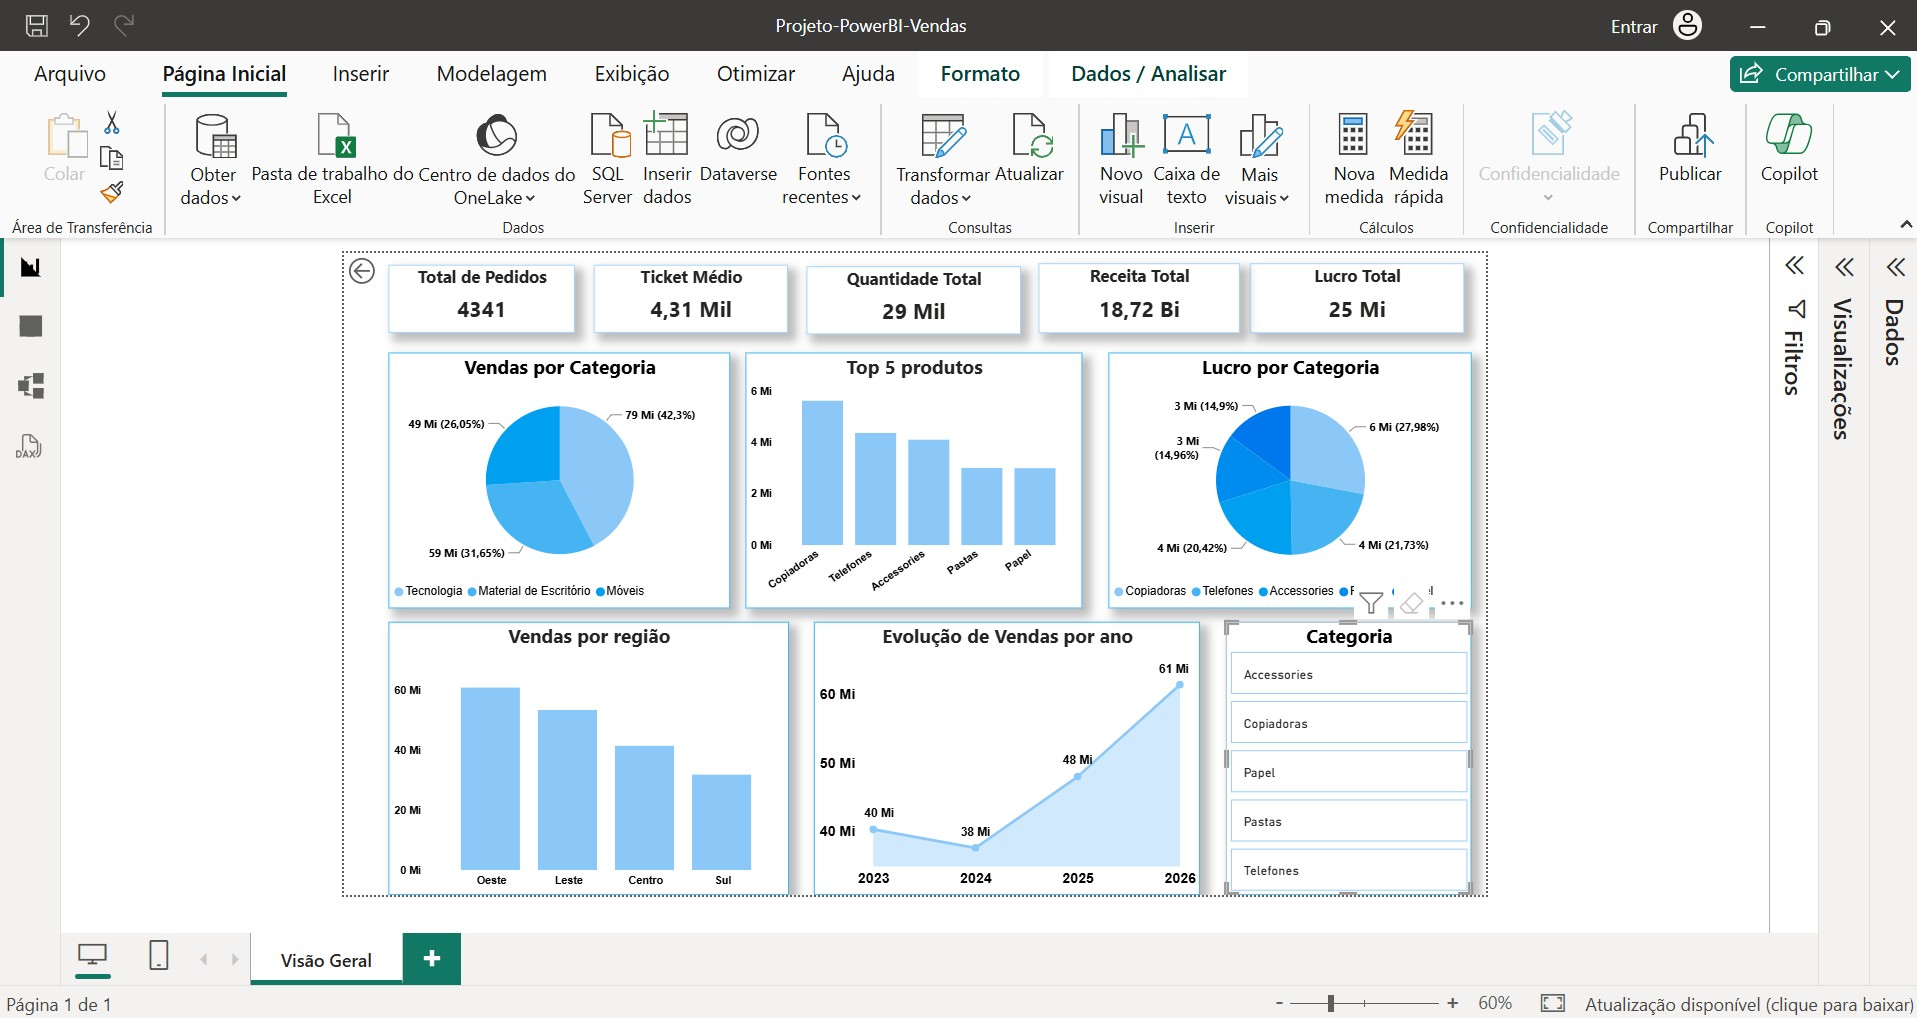

Layout of this report page (visuals, bound fields, positions):
{"tool":"powerbi","page":{"name":"Visão Geral","canvas":[1280,720],"ordinal":0},"visuals":[{"type":"card","title":"Lucro Total","fields":{"Values":["Sum(VISÃO GERAL.lucro_total)"]},"box":[1014.7,11.2,239.7,78.1],"z":0},{"type":"card","title":"Quantidade Total","fields":{"Values":["Sum(VISÃO GERAL.quantidade_total)"]},"box":[518.5,14.9,239.7,76.2],"z":1000},{"type":"card","title":"Ticket Médio","fields":{"Values":["Sum(SQLite 13.Ticket_Medio_Correto)"]},"box":[280.6,13,217.4,76.2],"z":2000},{"type":"card","title":"Receita Total","fields":{"Values":["Sum(SQLite 13.Receita_Total)"]},"box":[778.7,11.2,224.9,78.1],"z":3000},{"type":"card","title":"Total de Pedidos","fields":{"Values":["Sum(SQLite 13.Total_Pedidos)"]},"box":[50.2,13,208.1,76.2],"z":4000},{"type":"clusteredColumnChart","title":"Vendas por região","fields":{"Category":["VENDAS POR REGIÃO.region"],"Y":["Sum(VENDAS POR REGIÃO.receita)"]},"box":[50.2,413.8,448.2,305.6],"z":5000},{"type":"lineChart","title":"Evolução de Vendas por ano","fields":{"Category":["EVOLUÇÃO ANOS.ano"],"Y":["Sum(EVOLUÇÃO ANOS.receita)"]},"box":[526.6,413.8,432.6,305.6],"z":6000},{"type":"pieChart","title":"Vendas por Categoria","fields":{"Category":["VENDAS POR CATEGORIA.category"],"Y":["Sum(VENDAS POR CATEGORIA.receita)"]},"box":[50.2,111.5,382.8,286.2],"z":7000},{"type":"pieChart","title":"Lucro por Categoria","fields":{"Category":["SUBCATEGORIAS TOP 5 LUCRATIVAS.sub_category"],"Y":["Sum(SUBCATEGORIAS TOP 5 LUCRATIVAS.lucro)"]},"box":[856.8,111.5,407,286.2],"z":8000},{"type":"actionButton","box":[0,0,100,40],"z":9000},{"type":"columnChart","title":"Top 5 produtos","fields":{"Category":["SUBCATEGORIAS TOP 5 LUCRATIVAS.sub_category"],"Y":["Sum(SUBCATEGORIAS TOP 5 LUCRATIVAS.lucro)"]},"box":[449.8,111.5,377.3,286.2],"z":10000},{"type":"advancedSlicerVisual","title":"Categoria","fields":{"Values":["VENDAS POR CATEGORIA.category"]},"box":[989,414,275,306],"z":10001}]}

Visuals, with their boxes on the page's 1280x720 design canvas (x1, y1, x2, y2). These are canvas units, not pixel positions in the 1917x1018 screenshot, which may show the page scaled, cropped or inside an application window:
"Lucro Total" card: crop(1015, 11, 1254, 89)
"Quantidade Total" card: crop(518, 15, 758, 91)
"Ticket Médio" card: crop(281, 13, 498, 89)
"Receita Total" card: crop(779, 11, 1004, 89)
"Total de Pedidos" card: crop(50, 13, 258, 89)
"Vendas por região" clusteredColumnChart: crop(50, 414, 498, 719)
"Evolução de Vendas por ano" lineChart: crop(527, 414, 959, 719)
"Vendas por Categoria" pieChart: crop(50, 112, 433, 398)
"Lucro por Categoria" pieChart: crop(857, 112, 1264, 398)
actionButton: crop(0, 0, 100, 40)
"Top 5 produtos" columnChart: crop(450, 112, 827, 398)
"Categoria" advancedSlicerVisual: crop(989, 414, 1264, 720)
